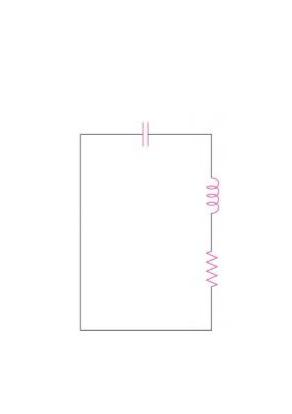resistor: (186, 226, 228, 302)
